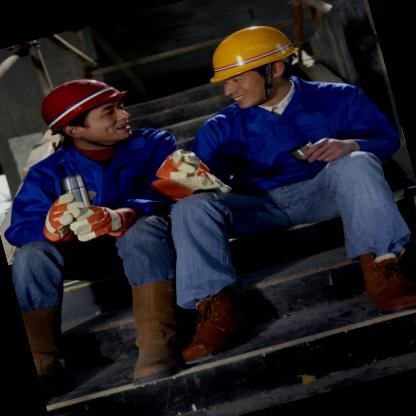capacete: (196, 13, 315, 117), (30, 63, 146, 163)
sem_colete_refletivo: (175, 61, 408, 210), (0, 117, 199, 257)
